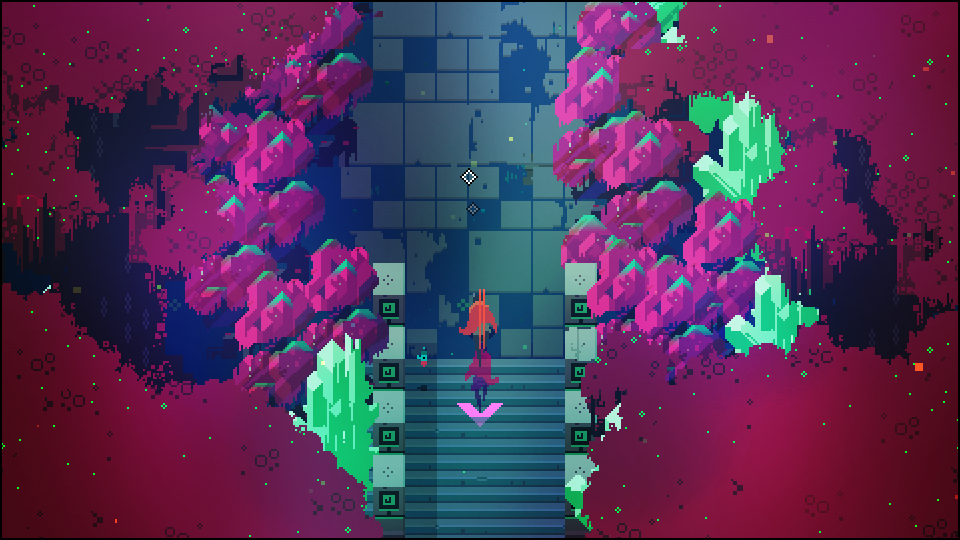player: (463, 293, 499, 339)
